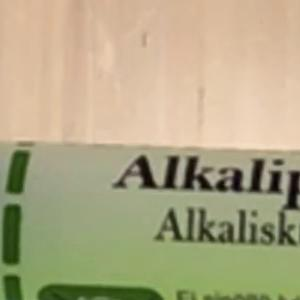keyword: (103, 145, 190, 200)
